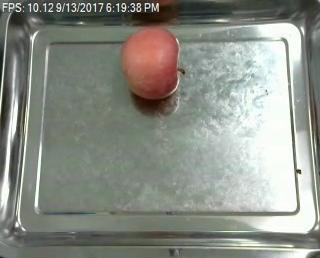apple: (121, 28, 186, 98)
